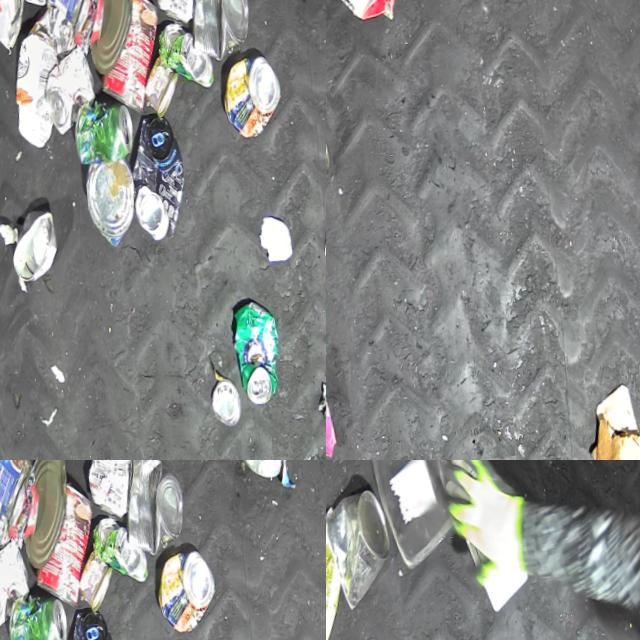can: (24, 480, 100, 609), (89, 0, 166, 114), (122, 114, 189, 242), (326, 488, 393, 611), (115, 460, 185, 557), (13, 460, 72, 567), (228, 299, 282, 407), (217, 53, 283, 140), (151, 548, 217, 635), (40, 43, 98, 135), (80, 158, 138, 248), (71, 96, 135, 165), (181, 0, 251, 62), (79, 0, 138, 72), (155, 18, 213, 90), (89, 513, 147, 585), (6, 208, 59, 286), (80, 460, 141, 519), (5, 590, 69, 640), (0, 537, 31, 630), (139, 53, 181, 117), (73, 548, 115, 612), (18, 0, 103, 28), (0, 460, 37, 523), (56, 608, 122, 640), (206, 377, 240, 427), (146, 0, 207, 24), (0, 0, 27, 49), (234, 460, 285, 480)
